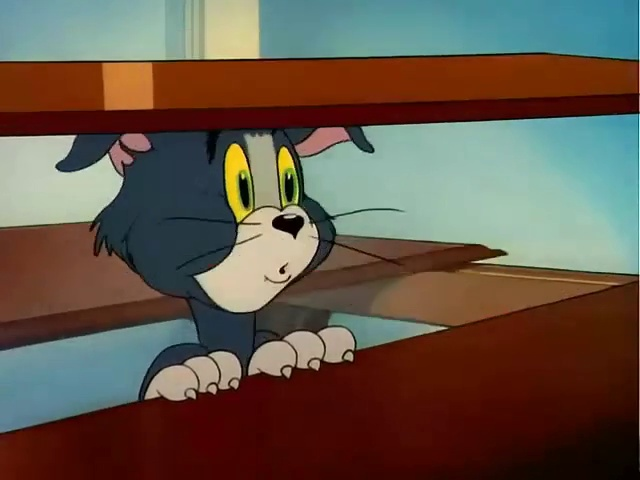tom: (49, 98, 400, 393)
